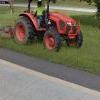Tractor: (9, 4, 89, 63)
